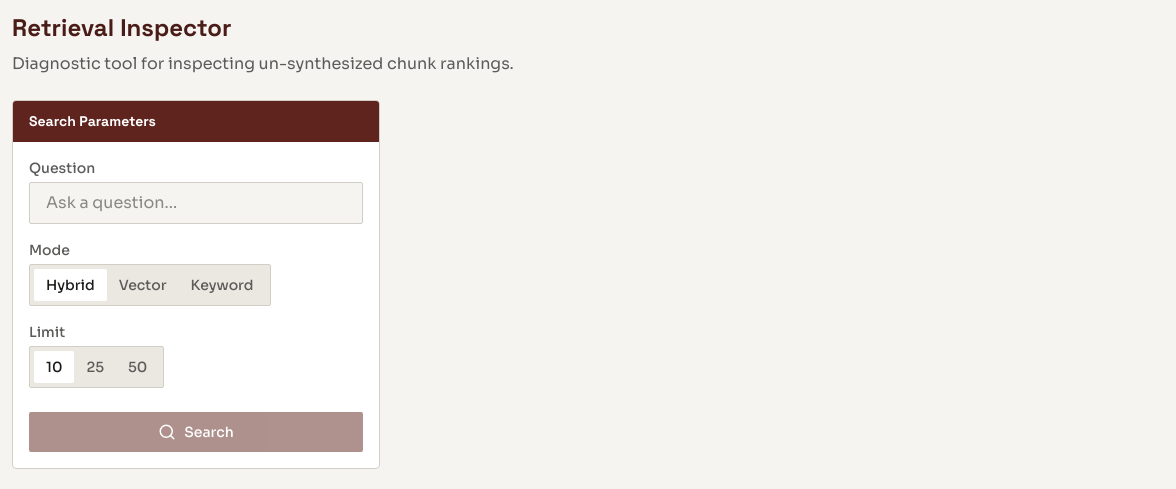
SearchPage › marks weak chunks instead of hiding them, using the API threshold
Step 1. Type "test question" into the field with placeholder "Ask a question..." → (196, 203), box [29,182,363,224]
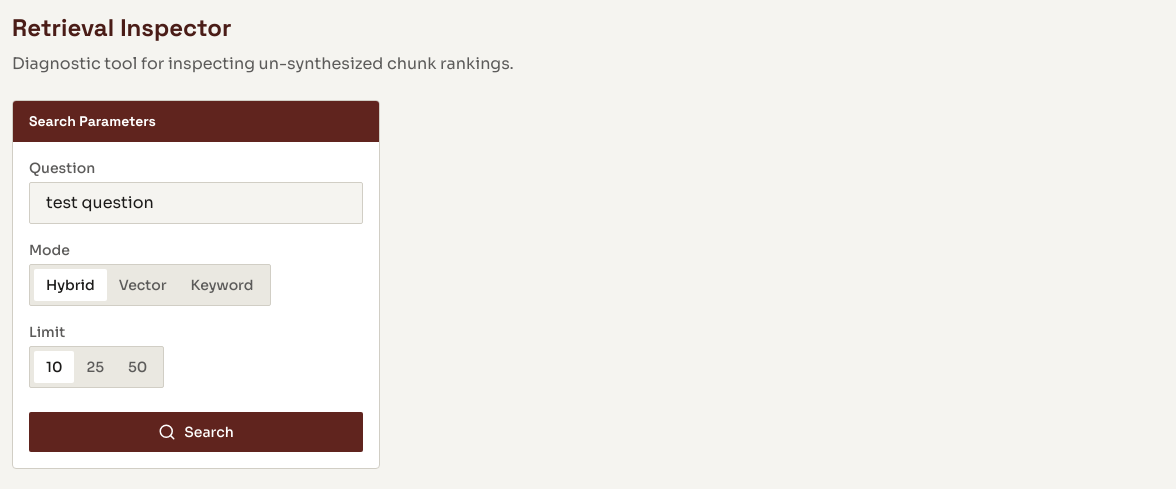
Step 2. Click the button "Search" → (196, 432), box [29,412,363,452]
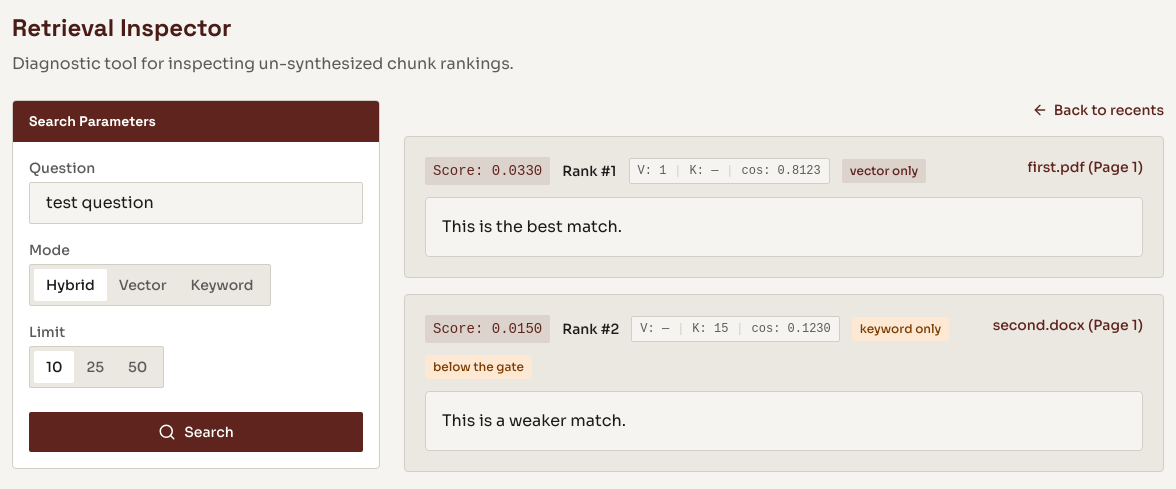
Now the text "Score: 0.0330" is shown, box [425,157,550,185]
Now the text "This is a weaker match." is shown, box [442,410,626,431]
Now the text "below the gate" is shown once, box [425,355,532,379]
